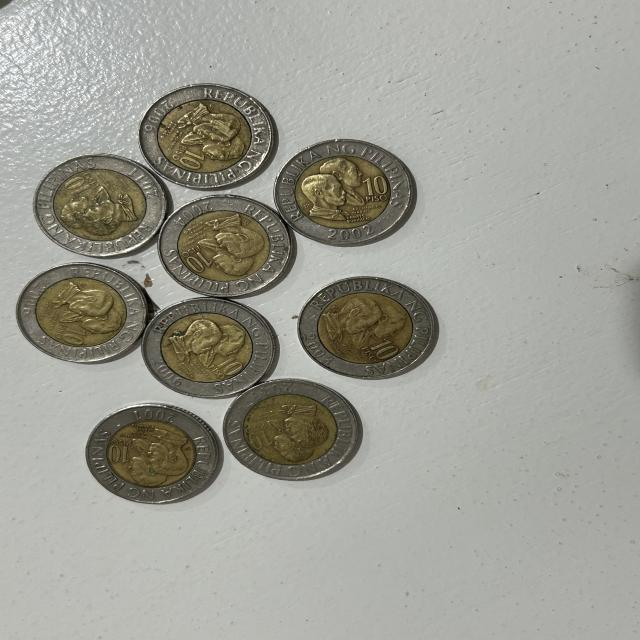10_Old_Front: (349, 170, 412, 208), (208, 348, 254, 379), (176, 244, 221, 272)
